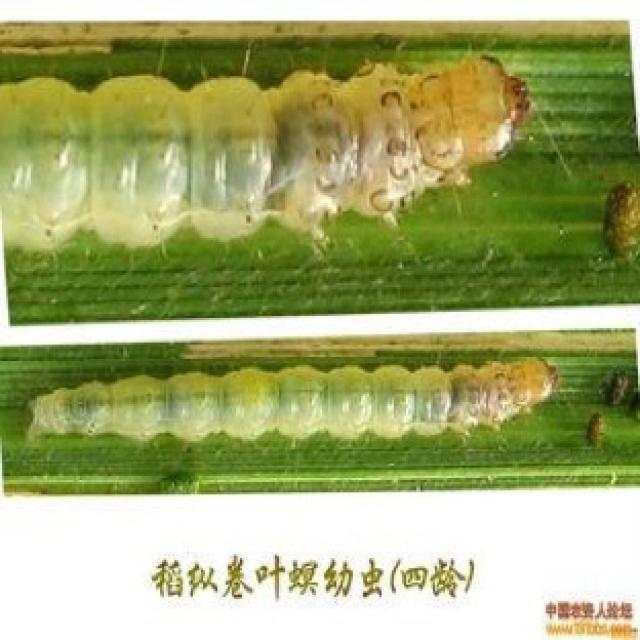rice leaf roller: (0, 53, 527, 252), (29, 359, 556, 439), (603, 183, 638, 256), (603, 371, 638, 416), (587, 412, 605, 443)
